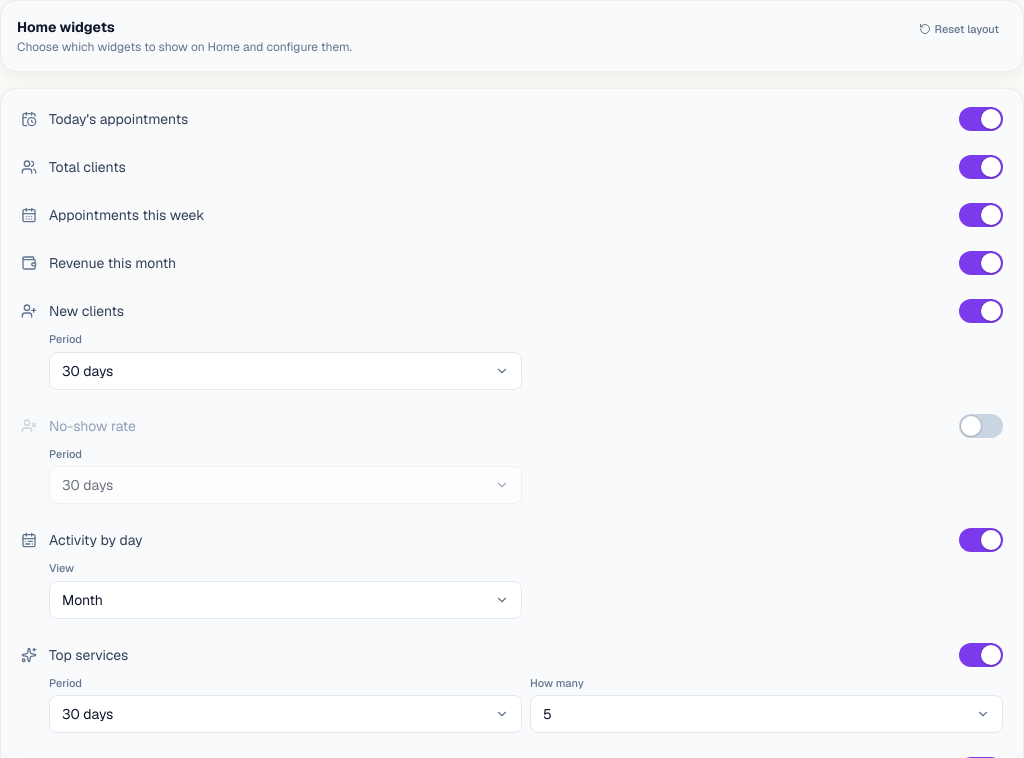
Scenario: WidgetsSection — option dropdowns › disables a widget's option Selects when it is toggled OFF
The width and height of the screenshot is (1024, 758).
# Turn top_services OFF, then its period trigger must be disabled.
What coordinates should you click on to do the following:
click the switch with test id "widget-toggle-top_services"
I would click on:
 (981, 654)
Its box is [959,642,1003,666].
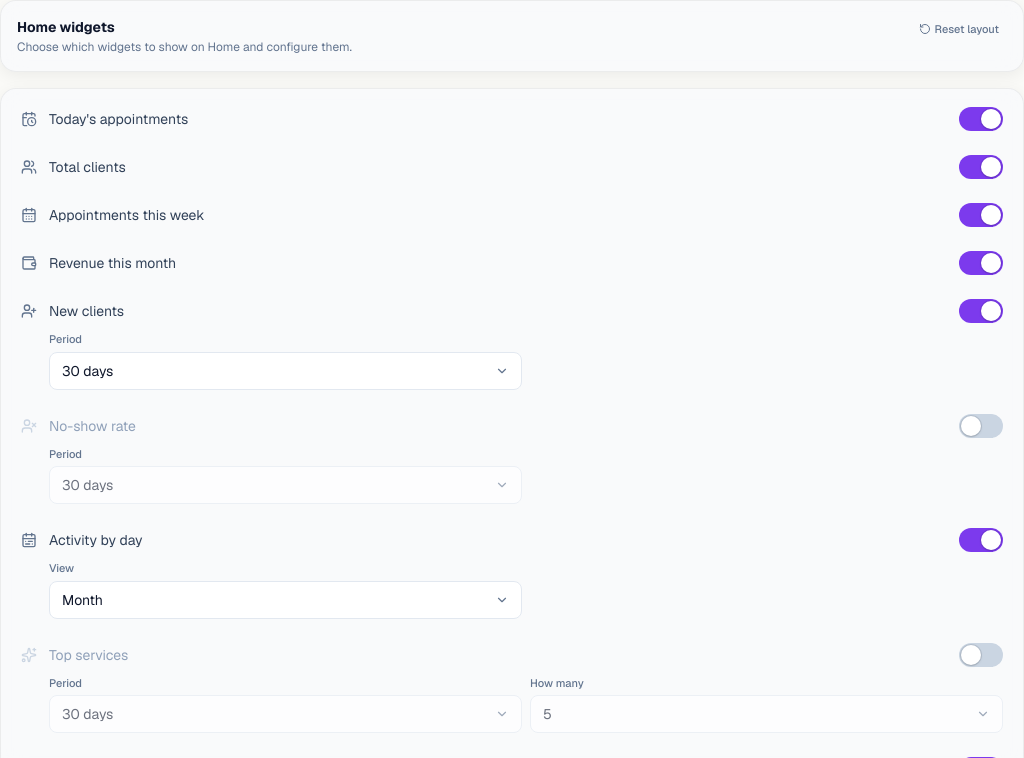
Check: the button with test id "widget-opt-top_services-period-trigger" is disabled, box [49,695,522,733]
